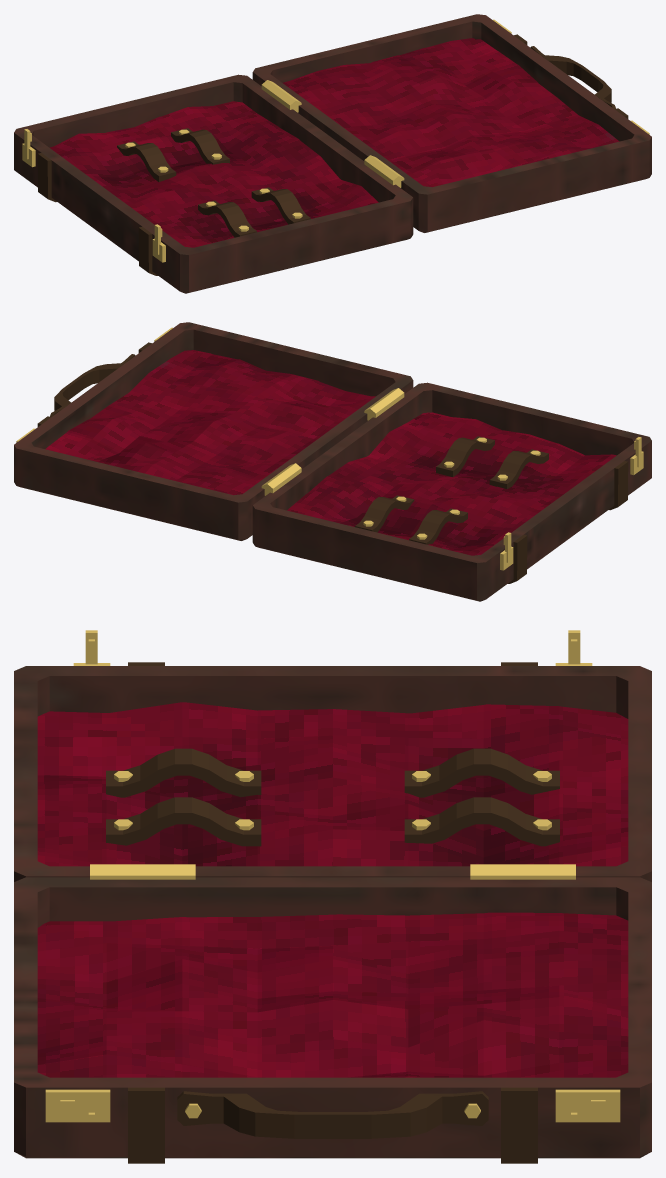
Rendered from Suitcase.fbx.
The picture shows the model from 3 angles, top to bottom: view 1: azimuth 30°, elevation 25°; view 2: azimuth 150°, elevation 25°; view 3: azimuth 270°, elevation 25°; orthographic projection. The views are drawn at different scales.
Parts seen in each view (by area): view 1: Case_Base_Top, Padding, PaddingTop, Case_Base_Bottom, GripInside, Grip, Hinge, Cube.001; view 2: Case_Base_Top, Padding, Case_Base_Bottom, PaddingTop, GripInside, Grip, Hinge, Cube.001; view 3: Padding, PaddingTop, Case_Base_Bottom, Case_Base_Top, GripInside, Grip, Cube, Hinge, Cube.001.
Part boxes in pixels (x1,y1,x2,y2): Case_Base_Top: [14, 74, 413, 293]; Padding: [283, 38, 619, 187]; PaddingTop: [50, 101, 378, 247]; Case_Base_Bottom: [252, 14, 651, 232]; GripInside: [117, 128, 310, 237]; Grip: [530, 46, 615, 108]; Hinge: [261, 80, 404, 187]; Cube.001: [22, 129, 165, 262]; Case_Base_Top: [252, 382, 651, 601]; Padding: [45, 350, 375, 495]; Case_Base_Bottom: [14, 322, 413, 540]; PaddingTop: [287, 412, 616, 555]; GripInside: [355, 436, 548, 544]; Grip: [50, 354, 135, 416]; Hinge: [261, 388, 404, 495]; Cube.001: [500, 437, 643, 570]; Padding: [37, 912, 628, 1077]; PaddingTop: [37, 702, 628, 866]; Case_Base_Bottom: [14, 877, 651, 1163]; Case_Base_Top: [14, 662, 651, 881]; GripInside: [106, 748, 559, 846]; Grip: [177, 1091, 488, 1138]; Cube: [45, 1089, 620, 1122]; Hinge: [90, 864, 575, 879]; Cube.001: [73, 630, 592, 665].
Bounding box in the file's own units: 83.98 × 9.93 × 50.
